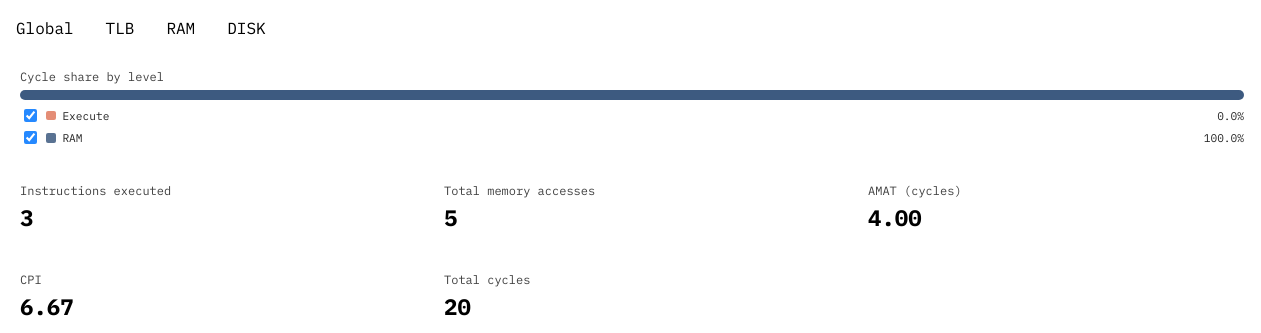
Test: StatsView › shows the RAM tab's page fault cells only when virtual memory is on
The image size is (1261, 333).
Step 1. Click the tab "RAM" → coordinates (181, 28), box top-left (154, 12), bottom-right (207, 45)
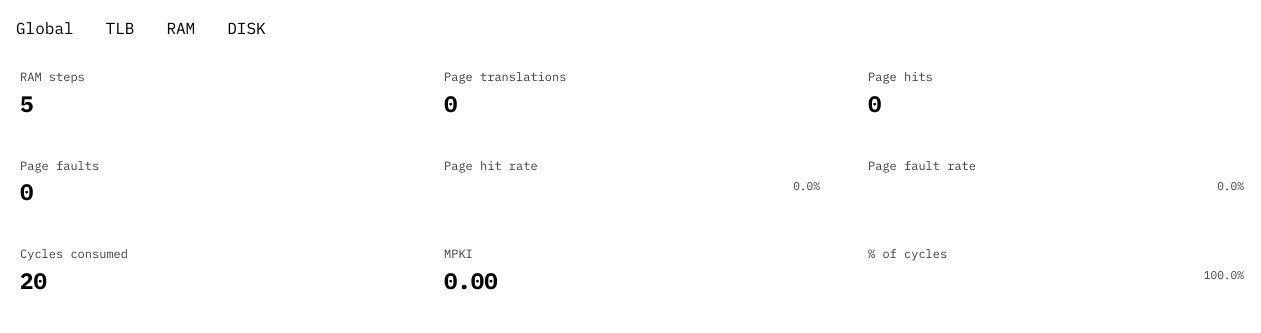
Now the text "Page hits" is shown, box top-left (868, 69), bottom-right (933, 84)
Now the text "Page faults" is shown, box top-left (20, 158), bottom-right (99, 173)
